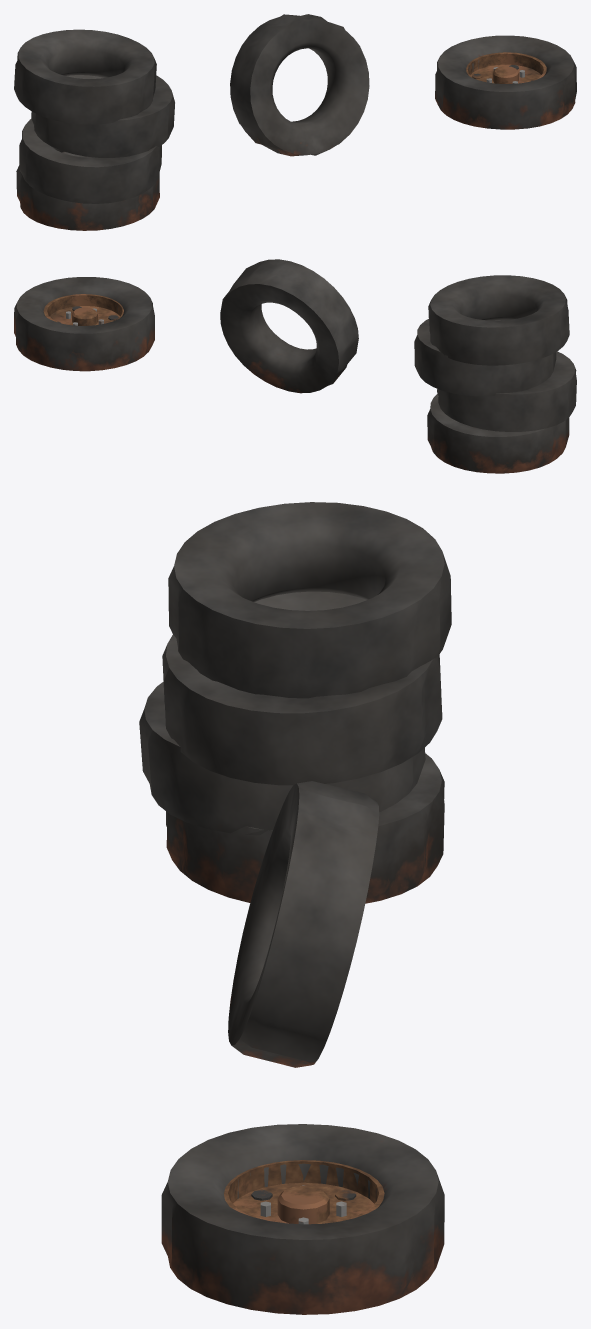
Rendered from TireStack.fbx.
3 views of the same model, one above another, from view 1: azimuth 30°, elevation 25°; view 2: azimuth 150°, elevation 25°; view 3: azimuth 270°, elevation 25° (orthographic). The views are drawn at different scales.
Parts seen in each view (by area): view 1: TireStack_4, TireLeaning, TireWithRim; view 2: TireStack_4, TireLeaning, TireWithRim; view 3: TireStack_4, TireWithRim, TireLeaning.
Boxes of the visible parts, x1,y1,x2,y2 form: TireStack_4: [14, 29, 174, 230]; TireLeaning: [230, 14, 369, 156]; TireWithRim: [435, 35, 576, 129]; TireStack_4: [414, 275, 576, 473]; TireLeaning: [220, 259, 358, 393]; TireWithRim: [14, 277, 154, 371]; TireStack_4: [139, 502, 451, 903]; TireWithRim: [161, 1124, 444, 1314]; TireLeaning: [228, 781, 379, 1067].
Size of the model in its own units: 296 by 77.36 by 74.07.
1 material, 1 textured.
